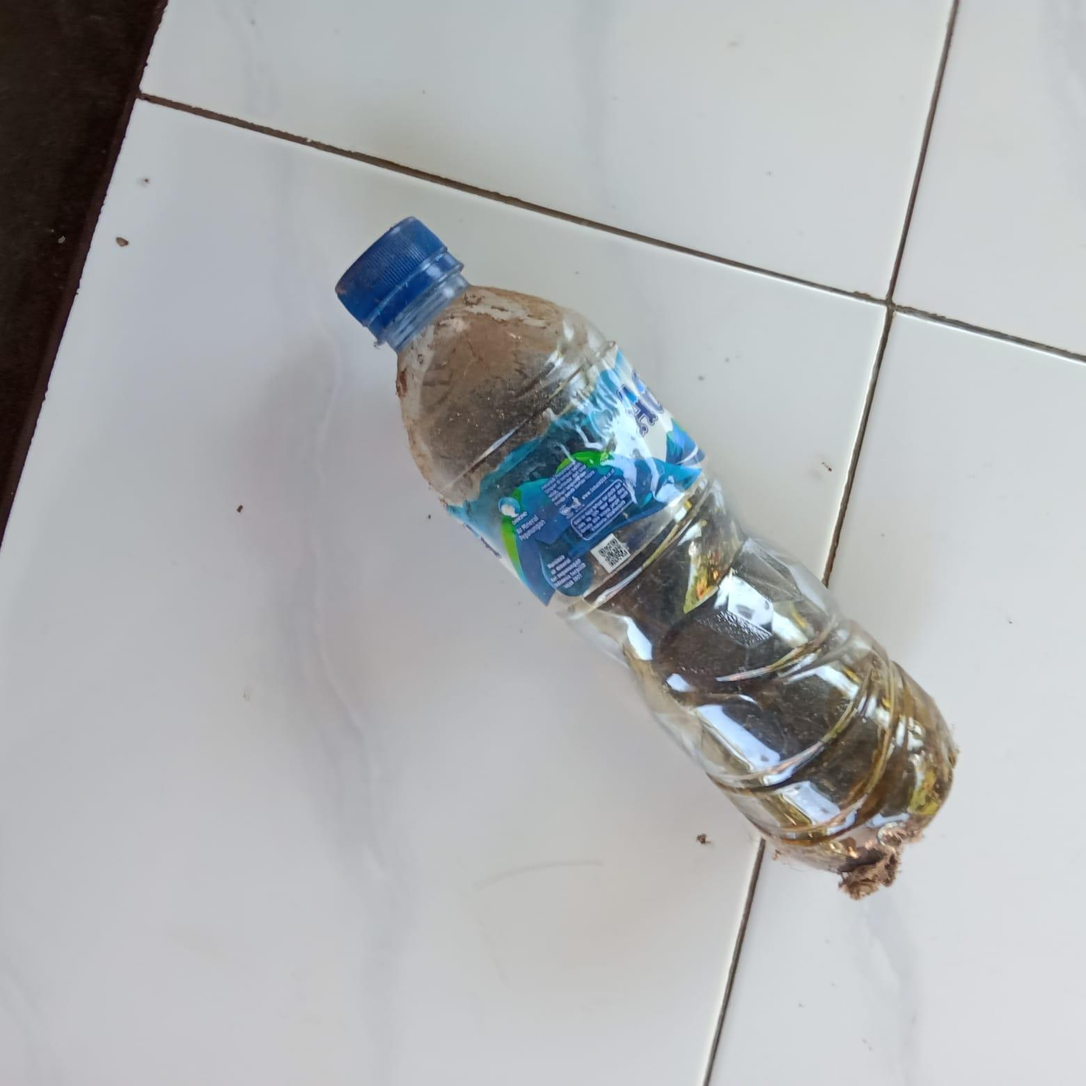Plastik: (332, 216, 959, 874)
